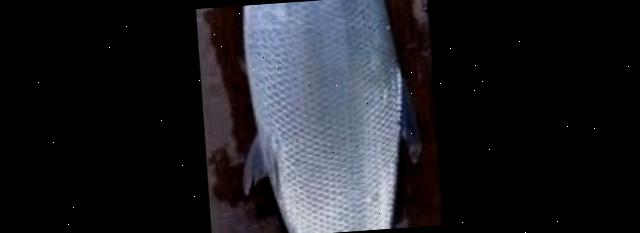Healthy Fish: (241, 0, 419, 233)
